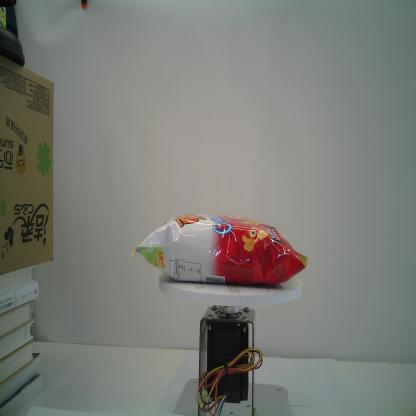Puffed Food: (130, 213, 309, 288)
